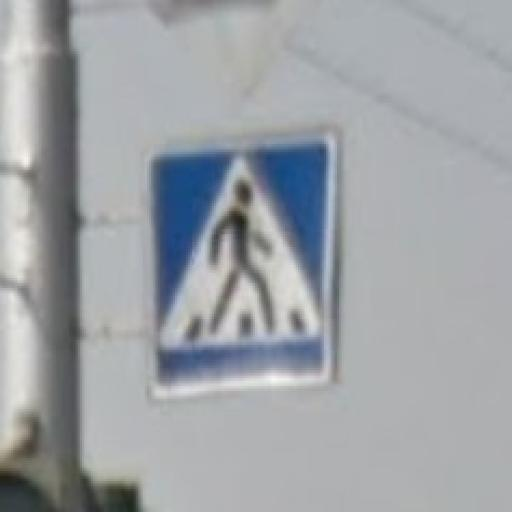traffic_sign: (141, 127, 338, 405)
